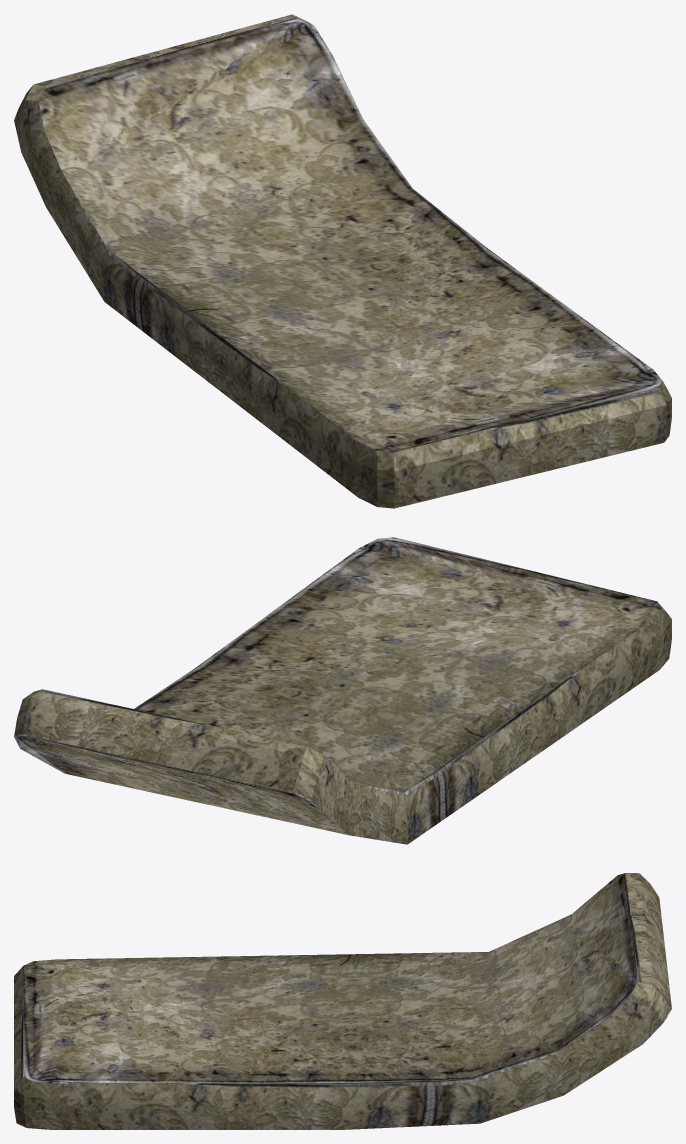
File: COLCHON_VIEJO_DOBLADO.fbx
The picture shows the model from 3 angles, top to bottom: view 1: azimuth 30°, elevation 25°; view 2: azimuth 150°, elevation 25°; view 3: azimuth 270°, elevation 25°; orthographic projection. The views are drawn at different scales.
Visible parts, largest first — view 1: CAMA.004; view 2: CAMA.004; view 3: CAMA.004.
Part boxes in pixels (left/top/right/bottom): CAMA.004: left=14, top=14, right=671, bottom=508; CAMA.004: left=14, top=537, right=671, bottom=844; CAMA.004: left=14, top=873, right=671, bottom=1129.
Size of the model in its own units: 158 by 80.3 by 344.
